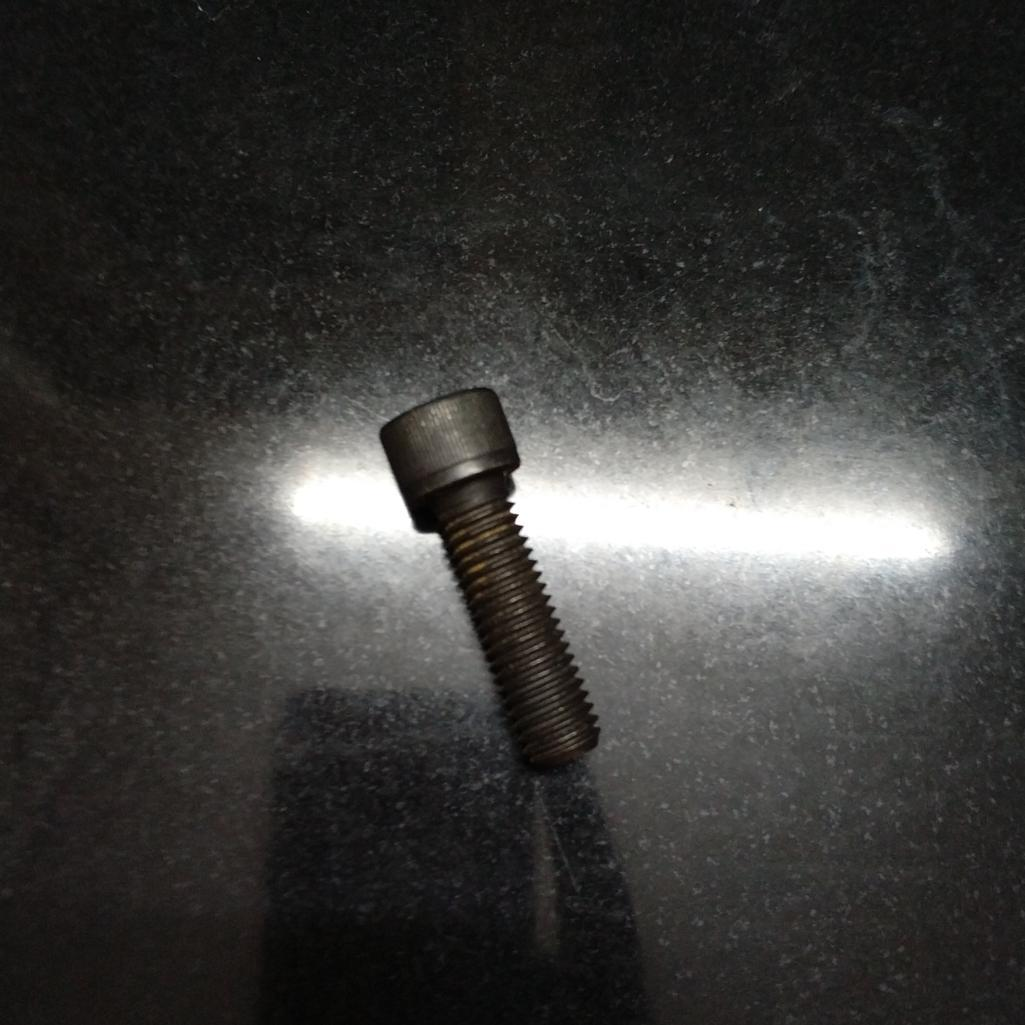screwtype1black: (374, 380, 603, 772)
